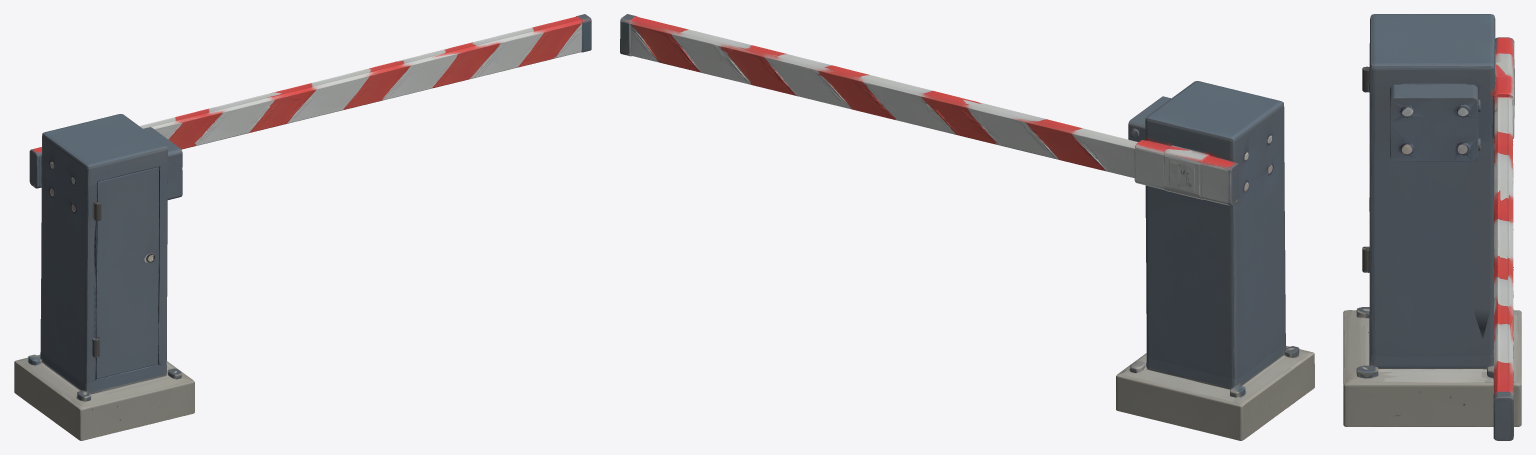
File: parking_barrier.glb
The picture shows the model from 3 angles, left to right: view 1: azimuth 30°, elevation 25°; view 2: azimuth 150°, elevation 25°; view 3: azimuth 270°, elevation 25°; orthographic projection. The views are drawn at different scales.
Parts seen in each view (by area): view 1: parking_barrier; view 2: parking_barrier; view 3: parking_barrier.
Boxes of the visible parts, x1,y1,x2,y2 form: parking_barrier: [14, 14, 591, 440]; parking_barrier: [620, 14, 1314, 440]; parking_barrier: [1343, 14, 1521, 440].
Bounding box in the file's own units: 2.48 × 1.1 × 0.5063.
1 material, 1 textured.
